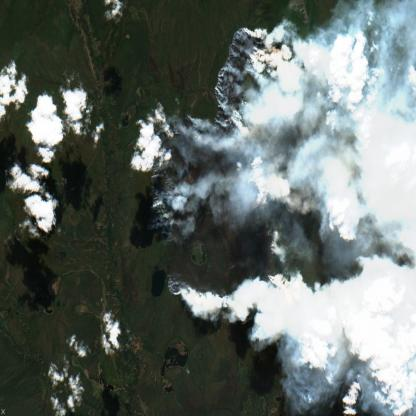fire: (142, 22, 298, 331)
